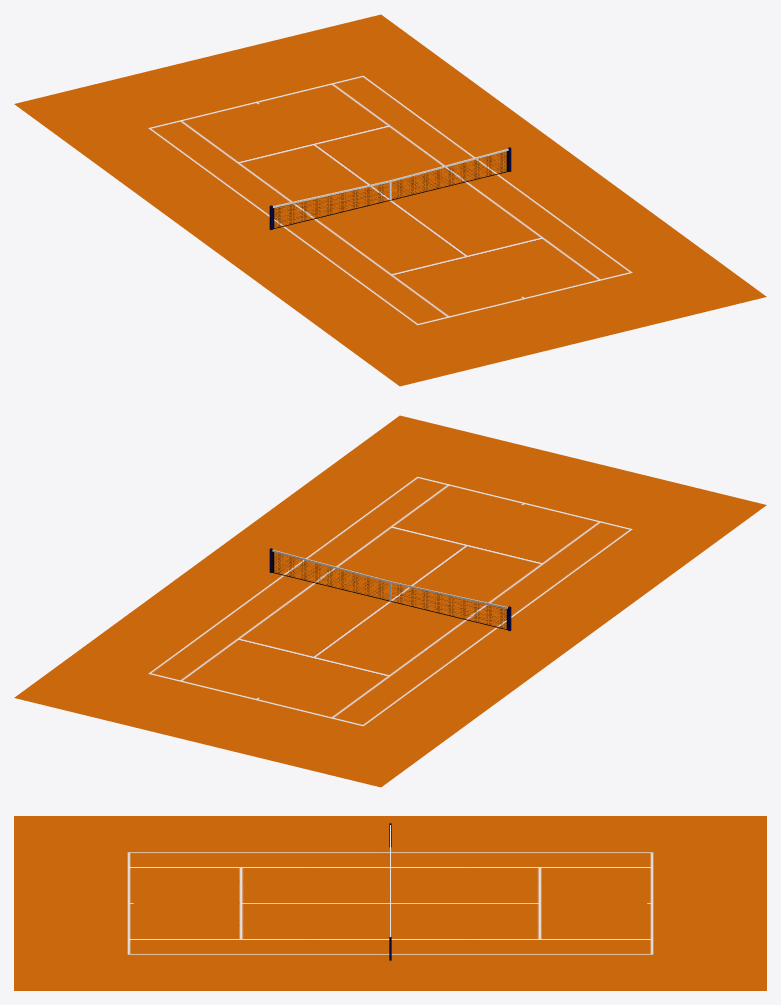
3 views of the same model, one above another, from view 1: azimuth 30°, elevation 25°; view 2: azimuth 150°, elevation 25°; view 3: azimuth 270°, elevation 25° (orthographic). The views are drawn at different scales.
Visible parts, largest first — view 1: external-court_5, court_4, net_2, white-part_3; view 2: external-court_5, court_4, net_2, white-part_3; view 3: external-court_5, court_4.
Boxes of the visible parts, <box> form: external-court_5: <box>14,14,766,386</box>; court_4: <box>148,75,632,325</box>; net_2: <box>274,152,505,226</box>; white-part_3: <box>273,148,508,207</box>; external-court_5: <box>14,415,766,787</box>; court_4: <box>148,476,632,726</box>; net_2: <box>275,553,506,627</box>; white-part_3: <box>272,549,507,608</box>; external-court_5: <box>14,816,766,990</box>; court_4: <box>127,852,653,954</box>.
Size of the model in its own units: 37.4 by 2.28 by 68.09.
4 materials, 1 textured.
